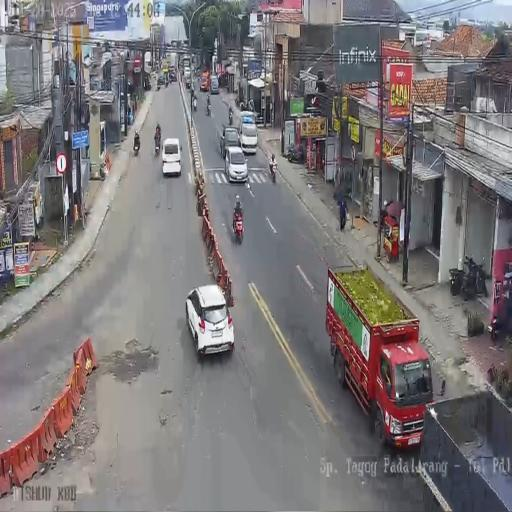car: (186, 284, 236, 361), (224, 145, 248, 184), (161, 136, 182, 177), (240, 119, 258, 155), (210, 75, 219, 94), (184, 66, 190, 84)
motorcycle: (233, 208, 244, 244), (285, 146, 304, 164), (269, 156, 277, 182), (154, 134, 161, 155), (134, 137, 140, 156), (206, 95, 211, 115), (228, 107, 233, 126), (193, 96, 197, 112), (165, 73, 169, 87), (156, 79, 160, 91)
truck: (167, 52, 178, 78), (200, 70, 210, 91)
